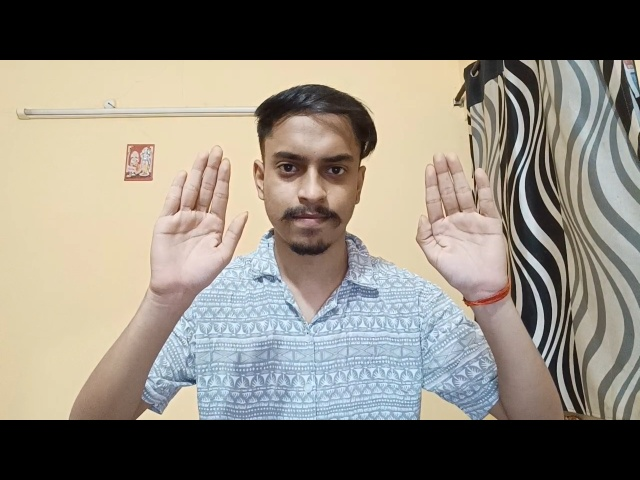Hello: (399, 146, 523, 311), (143, 148, 250, 306)
